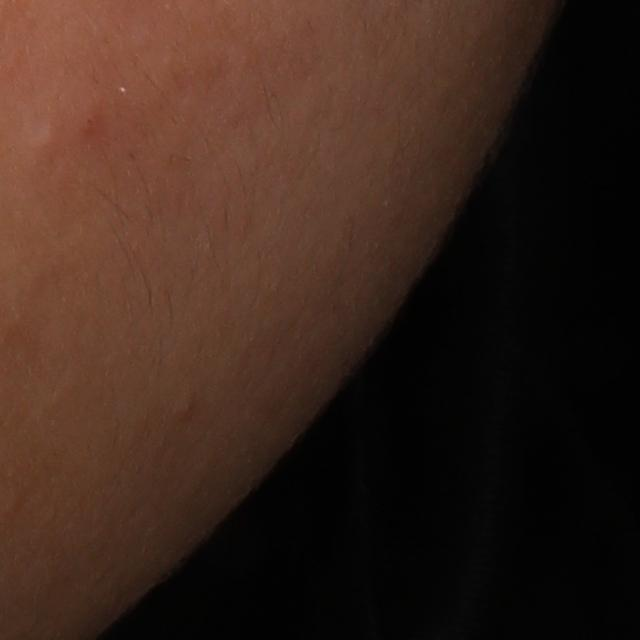comedo: (24, 114, 62, 156), (172, 390, 200, 427)
